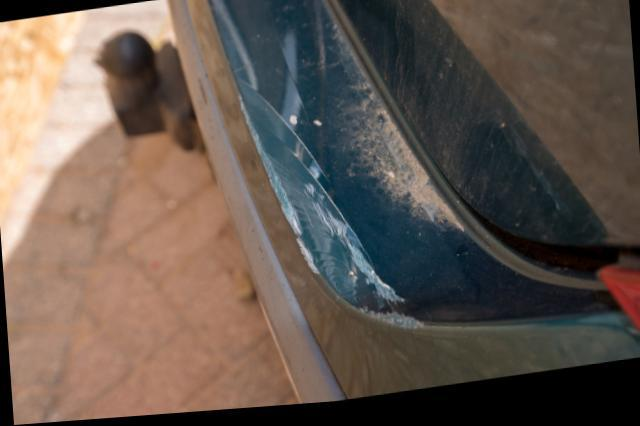scratch: (230, 93, 428, 338)
